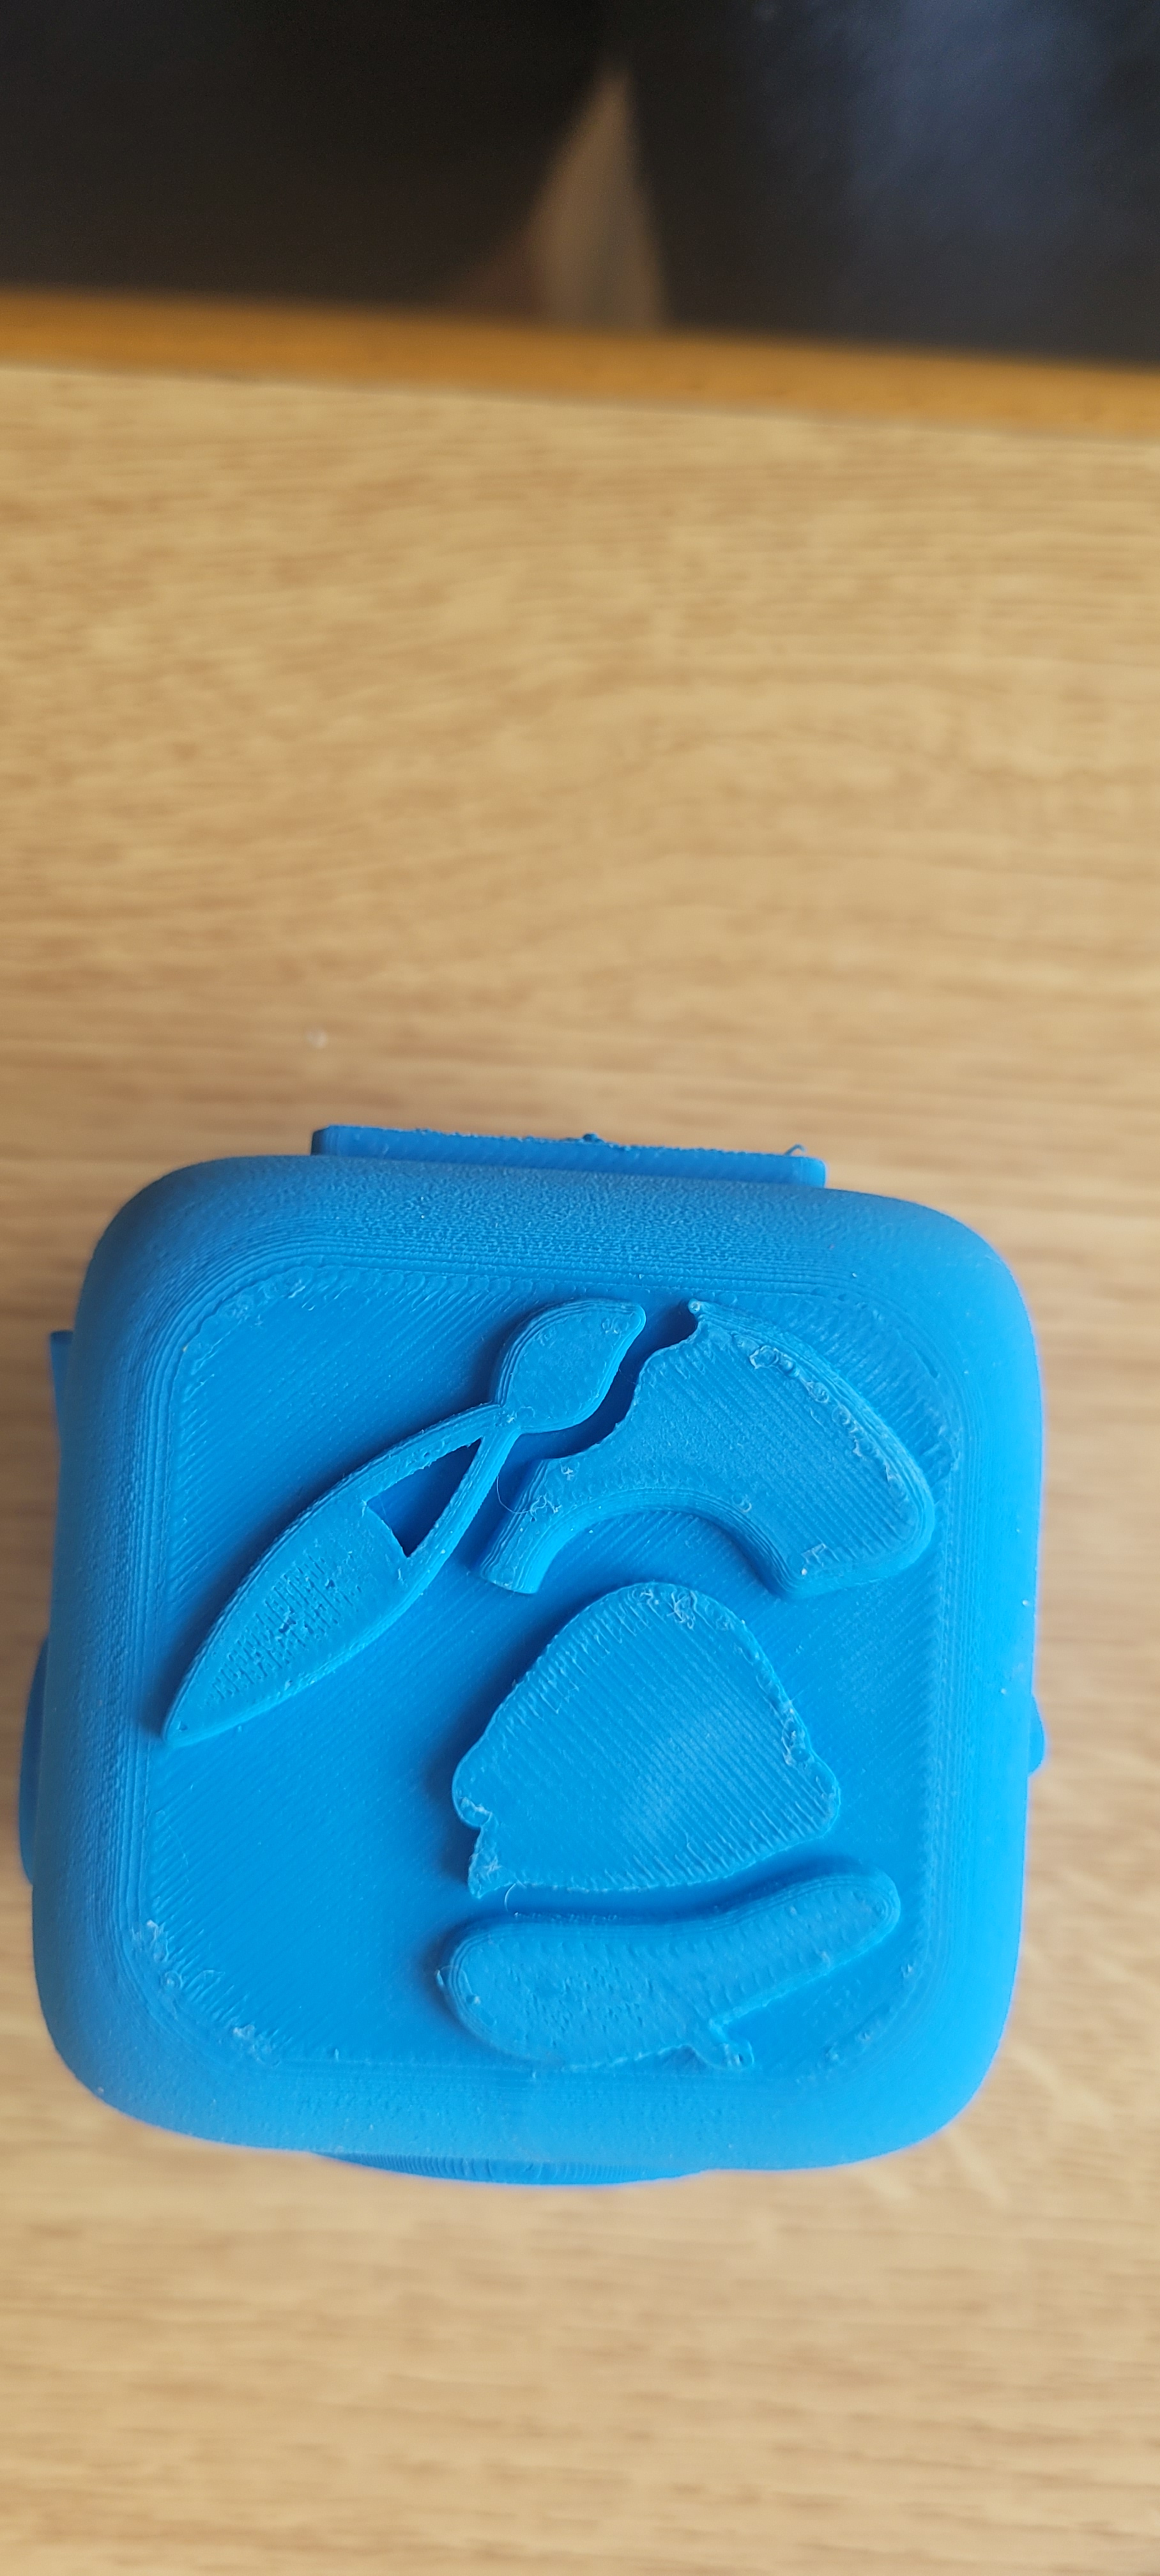Artist_Info: (16, 1132, 1063, 2175)
